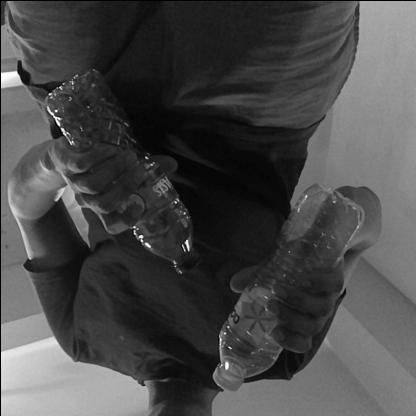plastic_bottles: (212, 182, 366, 393), (48, 68, 200, 275)
